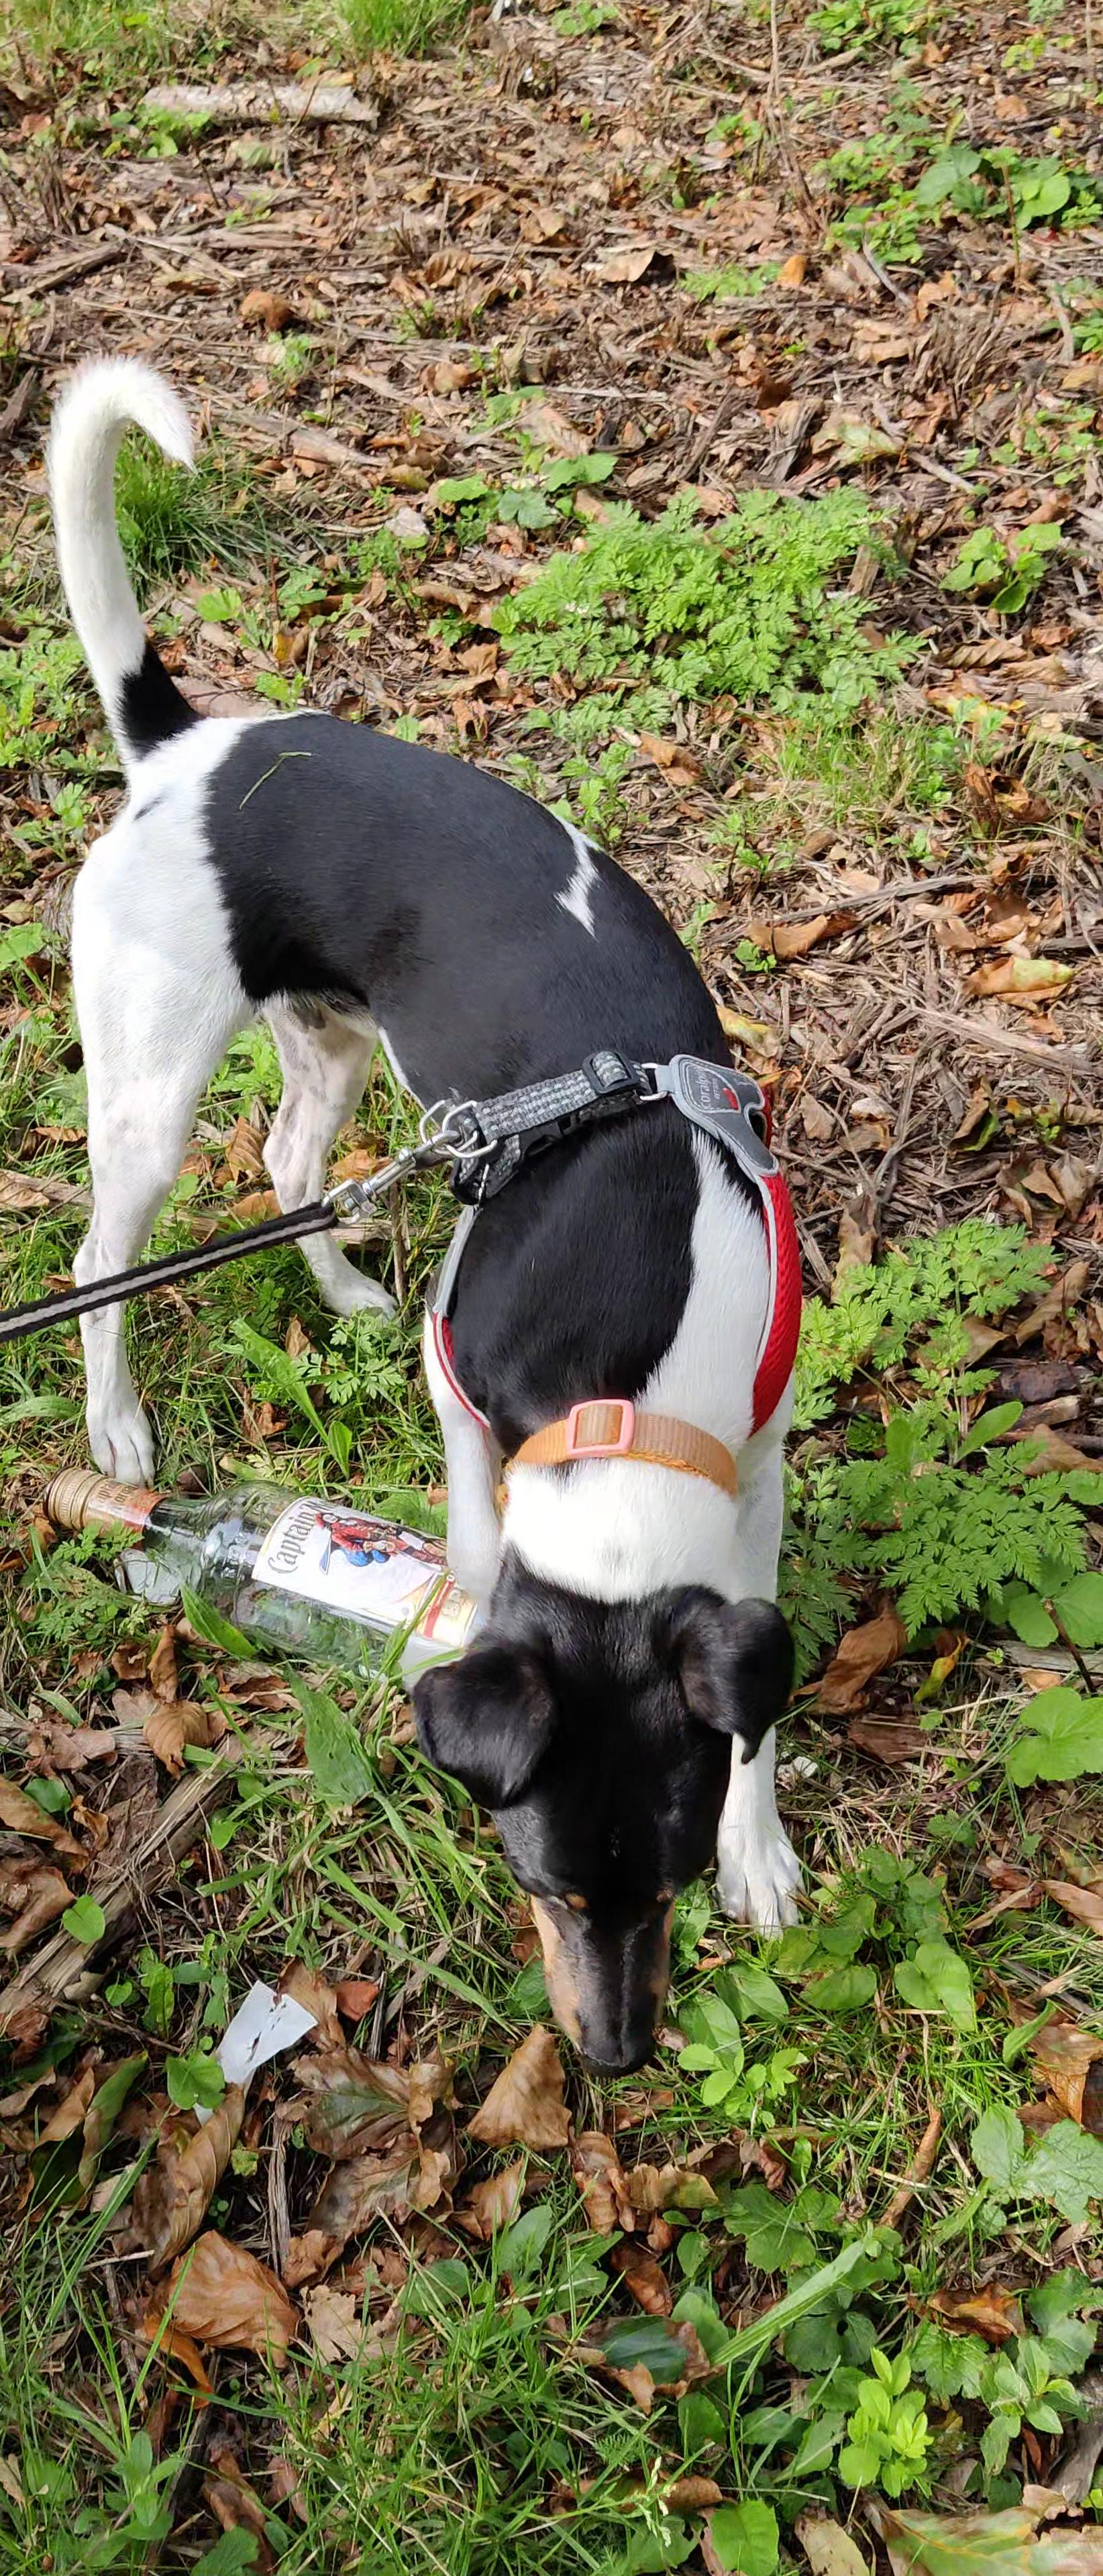Dog: (39, 324, 828, 2111)
